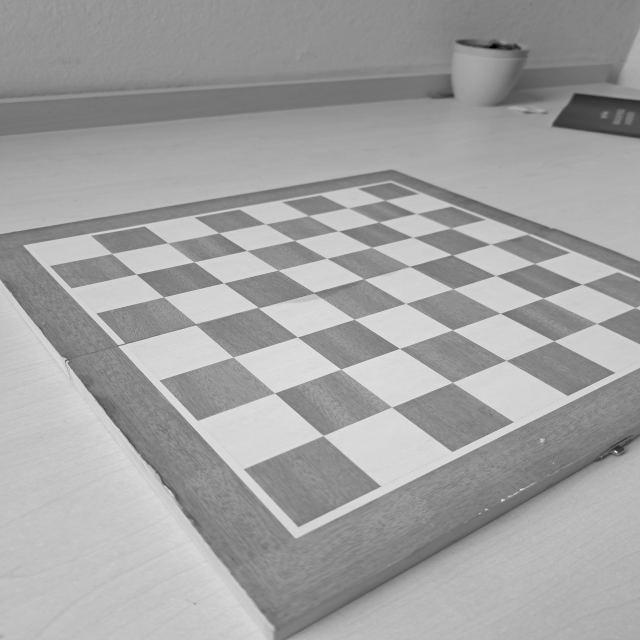chess-table-corners: (272, 508, 322, 544), (20, 239, 42, 253), (382, 178, 401, 190)
